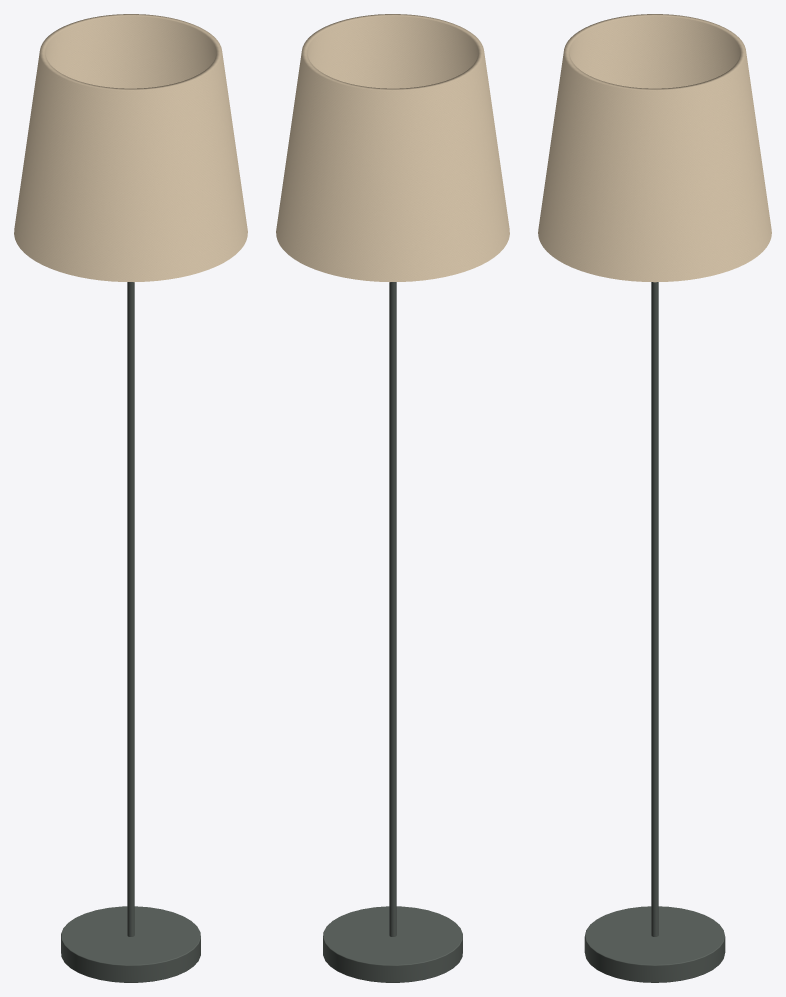
The picture shows the model from 3 angles, left to right: view 1: azimuth 30°, elevation 25°; view 2: azimuth 150°, elevation 25°; view 3: azimuth 270°, elevation 25°; orthographic projection.
Visible parts, largest first — view 1: shade, base, stem; view 2: shade, base, stem; view 3: shade, base, stem.
Part boxes in pixels (left/top/right/bottom): shade: left=14, top=14, right=247, bottom=282; base: left=61, top=906, right=200, bottom=982; stem: left=127, top=282, right=134, bottom=936; shade: left=276, top=14, right=509, bottom=282; base: left=323, top=906, right=462, bottom=982; stem: left=389, top=282, right=396, bottom=936; shade: left=538, top=14, right=771, bottom=282; base: left=584, top=906, right=725, bottom=982; stem: left=651, top=282, right=658, bottom=936.
Bounding box in the file's own units: 0.4 × 1.7 × 0.4.
Materials: 3 (2 with a texture image).
